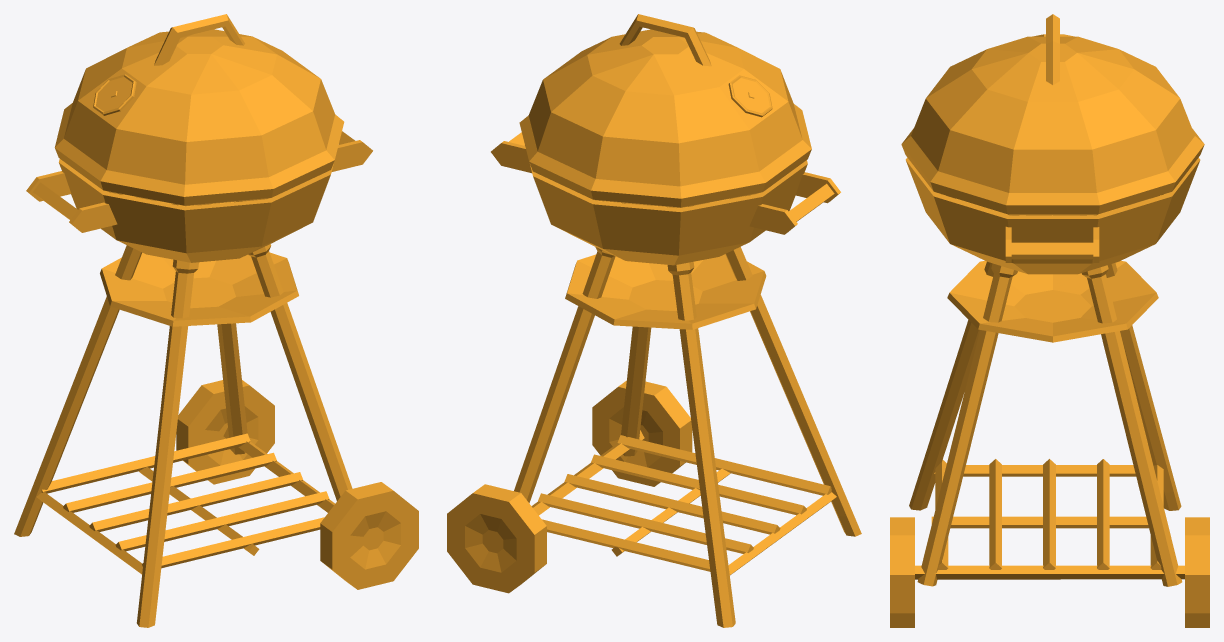
Rendered from SM_Grill_Coal_Small_Tall.fbx.
3 renders of one model, left to right at view 1: azimuth 30°, elevation 25°; view 2: azimuth 150°, elevation 25°; view 3: azimuth 270°, elevation 25°, orthographic. The views are drawn at different scales.
Parts seen in each view (by area): view 1: grill-coal-small-tall-base, grill-coal-small-tall-lid; view 2: grill-coal-small-tall-base, grill-coal-small-tall-lid; view 3: grill-coal-small-tall-base, grill-coal-small-tall-lid.
Part boxes in pixels (x1,y1,x2,y2): grill-coal-small-tall-base: (14,131,418,627); grill-coal-small-tall-lid: (54,14,344,206); grill-coal-small-tall-base: (447,132,861,627); grill-coal-small-tall-lid: (519,14,811,207); grill-coal-small-tall-base: (890,157,1209,627); grill-coal-small-tall-lid: (901,14,1204,214).
Size of the model in its own units: 0.5905 by 0.9922 by 0.5294.
